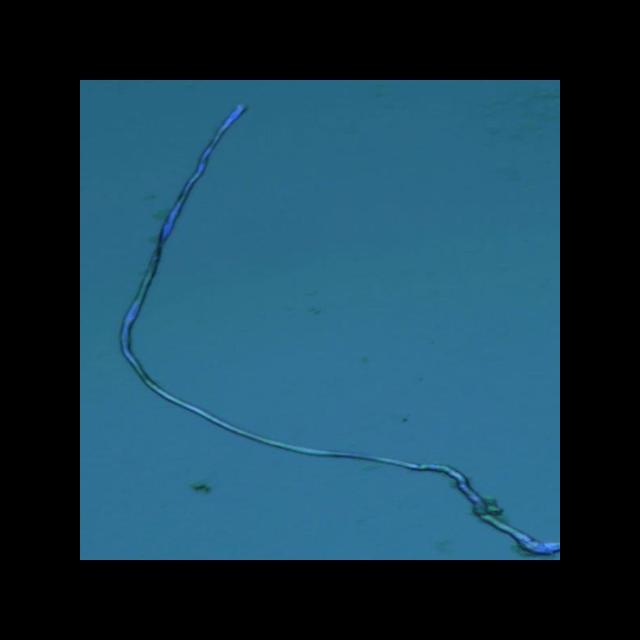Fibre: (116, 104, 560, 556)
